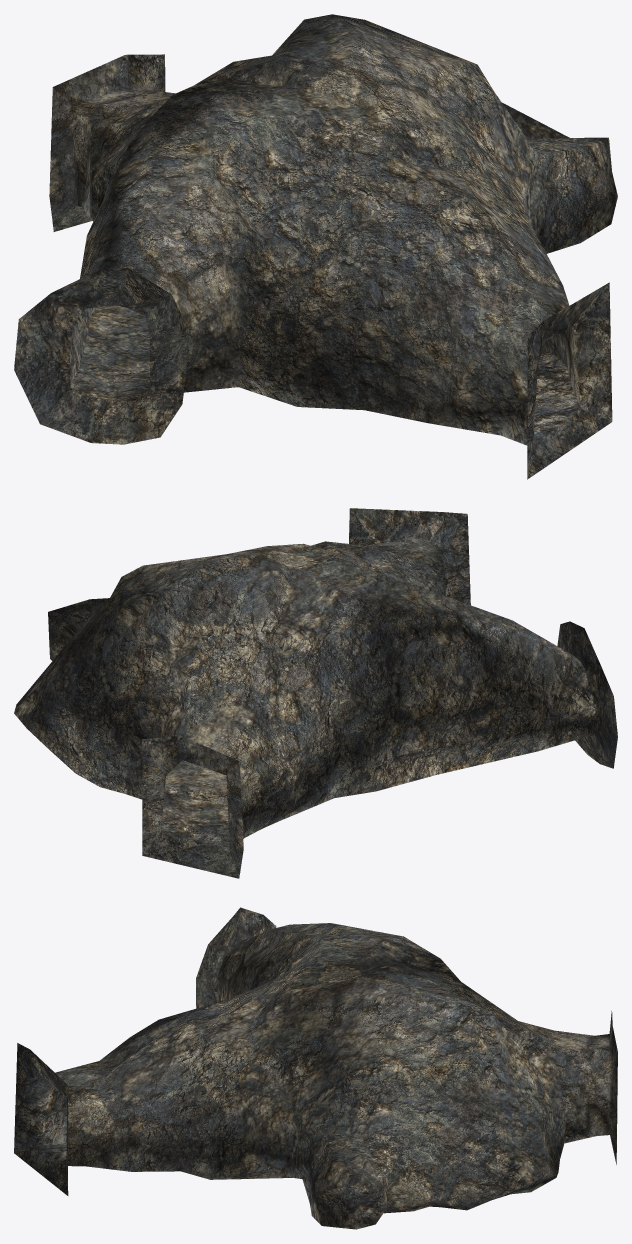
Rendered from Cave13.fbx.
3 views of the same model, one above another, from view 1: azimuth 30°, elevation 25°; view 2: azimuth 150°, elevation 25°; view 3: azimuth 270°, elevation 25° (orthographic). The views are drawn at different scales.
Parts seen in each view (by area): view 1: Cave13; view 2: Cave13; view 3: Cave13.
Boxes of the visible parts, x1,y1,x2,y2 form: Cave13: (14,14,617,479); Cave13: (14,508,617,878); Cave13: (14,907,617,1229).
Size of the model in its own units: 239 by 88.66 by 245.
